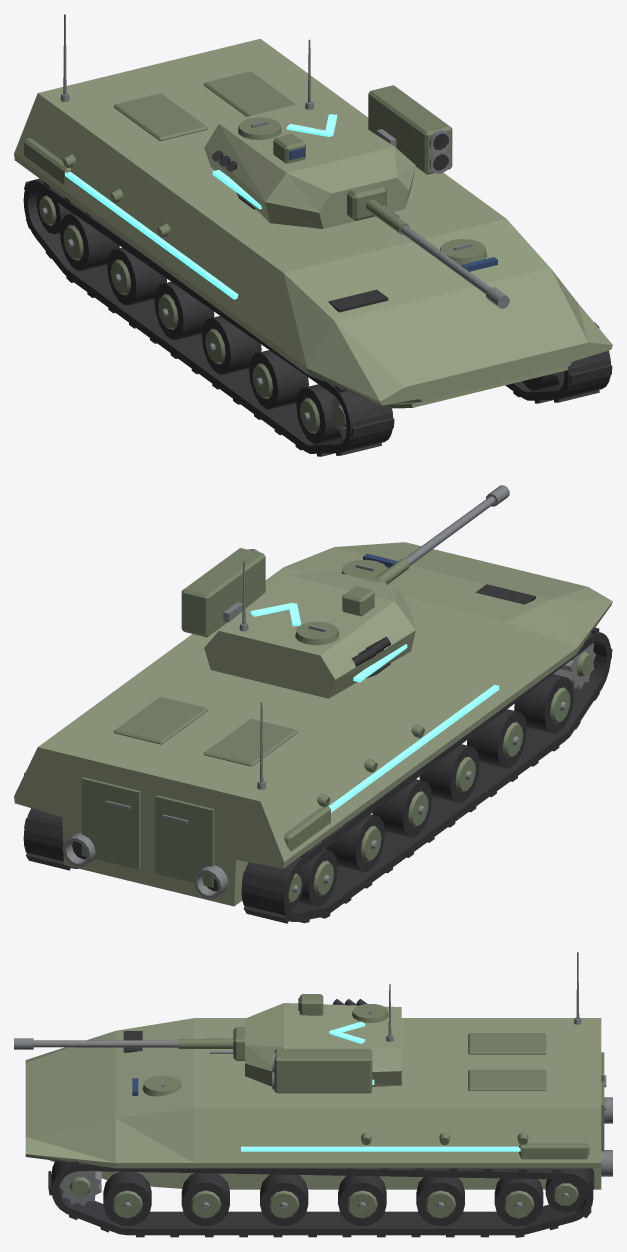
File: ifv_blue.glb
3 views of the same model, one above another, from view 1: azimuth 30°, elevation 25°; view 2: azimuth 150°, elevation 25°; view 3: azimuth 270°, elevation 25° (orthographic). The views are drawn at different scales.
Visible parts, largest first — view 1: body, turret, gun; view 2: body, turret, gun; view 3: body, turret, gun.
Part boxes in pixels (x1,y1,x2,y2): body: (14,14,612,456); turret: (204,39,452,228); gun: (347,183,509,308); body: (14,542,612,923); turret: (181,548,415,698); gun: (351,485,509,584); body: (25,952,612,1237); turret: (245,984,401,1093); gun: (14,1027,244,1060).
Size of the model in its own units: 3.3 by 3.03 by 7.65.
